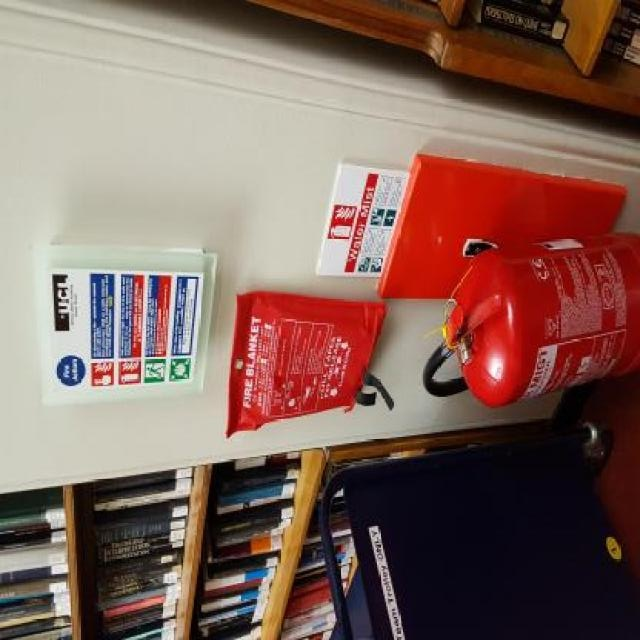fire extinguisher: (424, 232, 638, 406)
